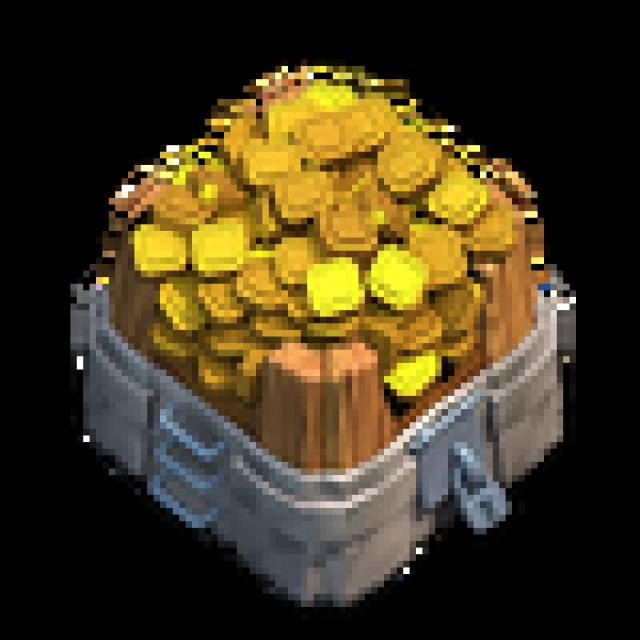gold_storage: (61, 60, 604, 635)
